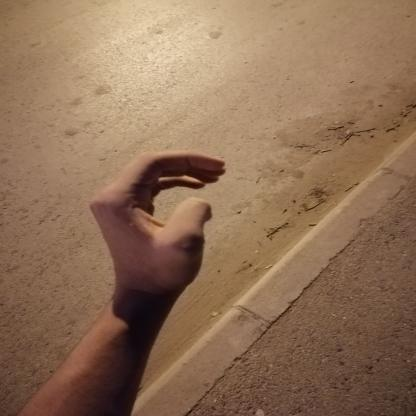JEEM: (73, 138, 240, 301)
